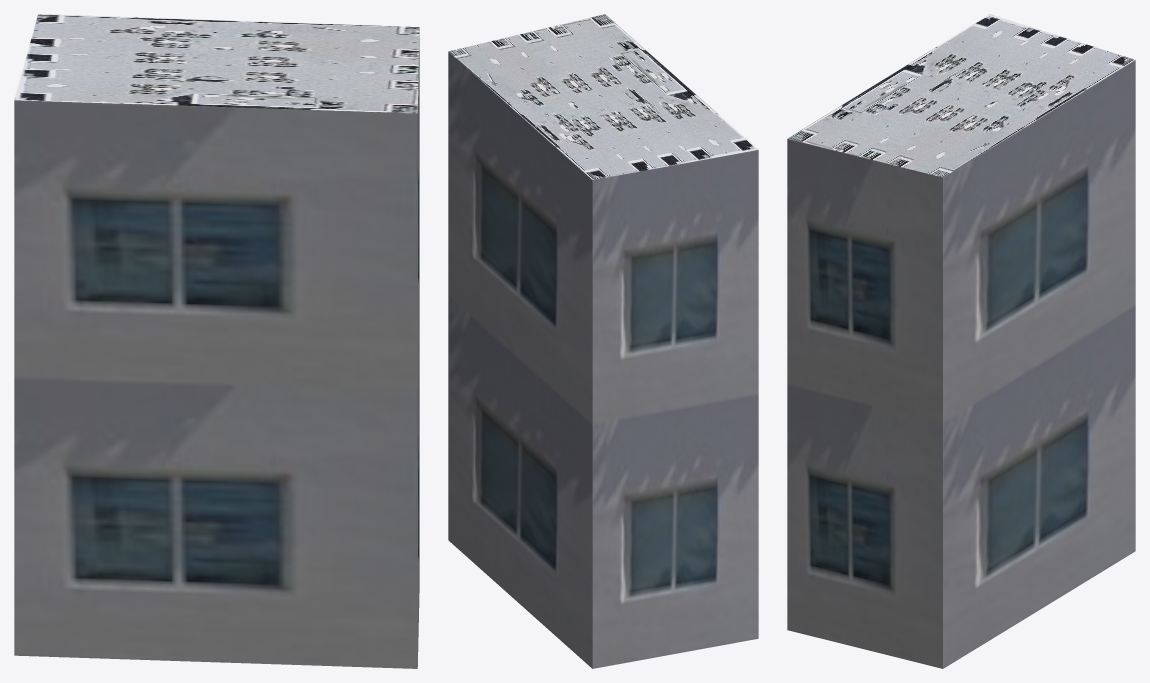
File: ResTex__4474.fbx
3 views of the same model, side by side, from view 1: azimuth 30°, elevation 25°; view 2: azimuth 150°, elevation 25°; view 3: azimuth 270°, elevation 25° (orthographic). The views are drawn at different scales.
Parts seen in each view (by area): view 1: CityEngineMaterial_10_m, CityEngineMaterial_m; view 2: CityEngineMaterial_10_m, CityEngineMaterial_m; view 3: CityEngineMaterial_10_m, CityEngineMaterial_m.
Boxes of the visible parts, bbox=[...] form: CityEngineMaterial_10_m: bbox=[14, 38, 419, 668]; CityEngineMaterial_m: bbox=[14, 14, 419, 113]; CityEngineMaterial_10_m: bbox=[448, 52, 758, 668]; CityEngineMaterial_m: bbox=[448, 14, 758, 179]; CityEngineMaterial_10_m: bbox=[787, 60, 1135, 668]; CityEngineMaterial_m: bbox=[787, 14, 1135, 177].
Bounding box in the file's own units: 4.29 × 6 × 3.86.
2 materials, 2 textured.
